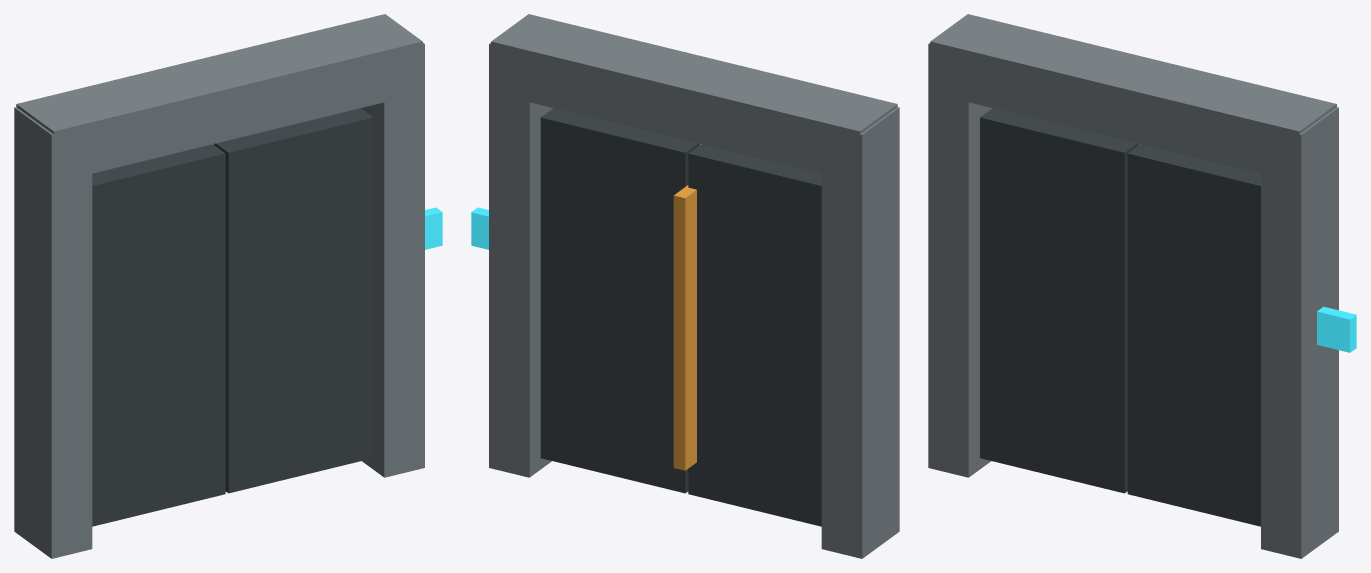
The model's file is gravifire_bulkhead_door.glb.
3 renders of one model, left to right at view 1: azimuth 30°, elevation 25°; view 2: azimuth 150°, elevation 25°; view 3: azimuth 330°, elevation 25°, orthographic.
Visible parts, largest first — view 1: door_leaf_r, door_leaf_l, jamb_l, header, jamb_r, status_panel; view 2: door_leaf_r, door_leaf_l, jamb_l, header, jamb_r, center_seam, status_panel; view 3: door_leaf_l, door_leaf_r, header, jamb_r, jamb_l, status_panel.
Boxes of the visible parts, x1,y1,x2,y2 form: door_leaf_r: (213, 108, 373, 493); door_leaf_l: (92, 144, 225, 526); jamb_l: (14, 107, 92, 558); header: (16, 14, 422, 182); jamb_r: (361, 43, 424, 477); status_panel: (425, 207, 442, 249); door_leaf_r: (540, 108, 700, 493); door_leaf_l: (688, 144, 821, 526); jamb_l: (821, 107, 899, 558); header: (491, 14, 897, 181); jamb_r: (489, 43, 552, 477); center_seam: (673, 185, 696, 470); status_panel: (471, 207, 488, 249); door_leaf_l: (980, 108, 1139, 493); door_leaf_r: (1127, 144, 1260, 526); header: (930, 14, 1336, 182); jamb_r: (1261, 107, 1338, 558); jamb_l: (928, 43, 992, 477); status_panel: (1317, 306, 1356, 352).
Size of the model in its own units: 2.81 by 2.82 by 0.455.
